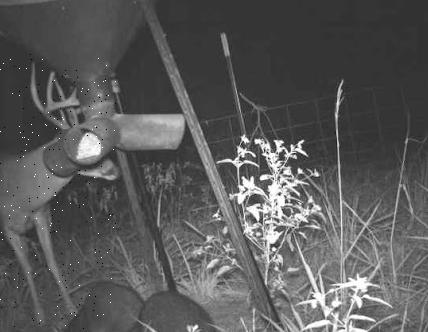Deer: (0, 54, 116, 330)
